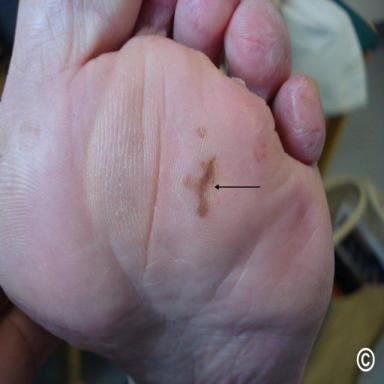Melanoma: (183, 156, 217, 219)
